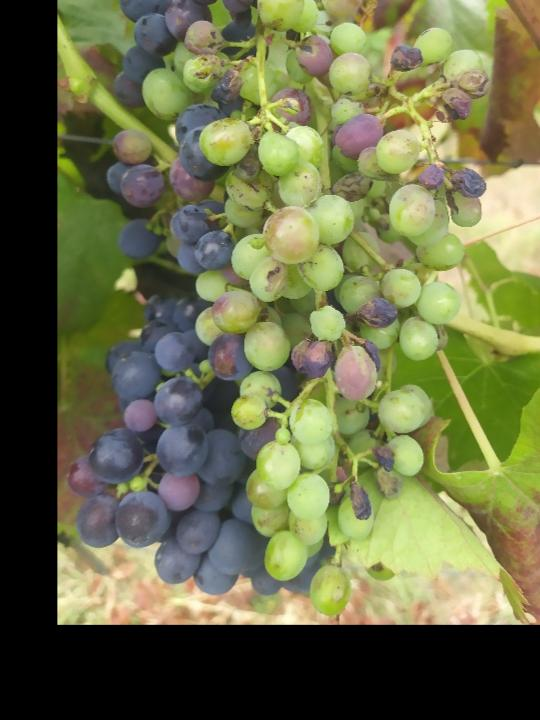grape: (63, 0, 498, 622)
